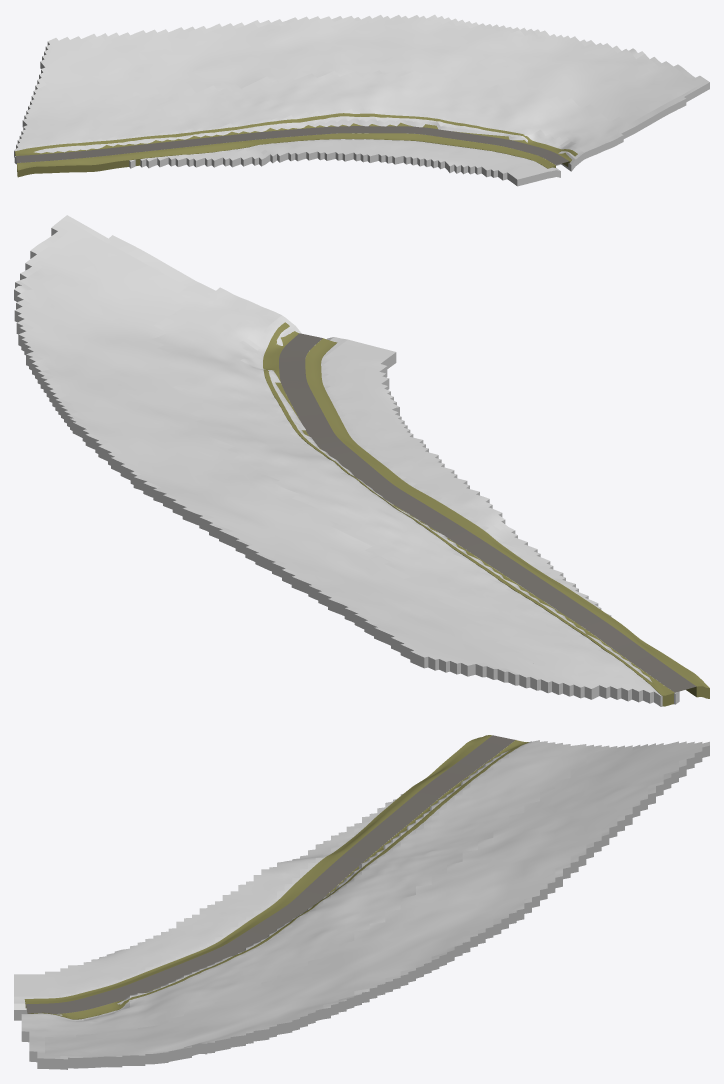
File: conz_103.glb
3 views of the same model, one above another, from view 1: azimuth 30°, elevation 25°; view 2: azimuth 150°, elevation 25°; view 3: azimuth 270°, elevation 25° (orthographic). The views are drawn at different scales.
Visible parts, largest first — view 1: terrain103, verge103L, road103, verge103R; view 2: terrain103, road103, verge103L, verge103R; view 3: terrain103, road103, verge103L, verge103R.
Part boxes in pixels (x1,y1,x2,y2): terrain103: [14, 14, 709, 186]; verge103L: [17, 133, 555, 177]; road103: [16, 126, 568, 164]; verge103R: [15, 113, 577, 166]; terrain103: [14, 215, 679, 706]; road103: [279, 333, 696, 692]; verge103L: [305, 338, 709, 698]; verge103R: [263, 322, 674, 706]; terrain103: [14, 739, 709, 1069]; road103: [26, 735, 514, 1013]; verge103L: [24, 735, 491, 1007]; verge103R: [28, 740, 528, 1019].
Size of the model in its own units: 252 by 30.2 by 180.
